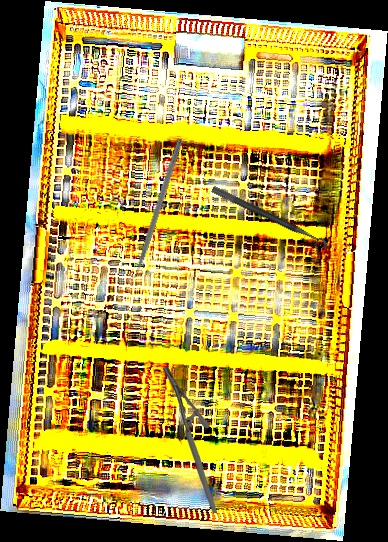Chopper: (122, 135, 184, 287)
Fixation Ring: (206, 184, 330, 259)
Needle Holder: (159, 365, 220, 514)
